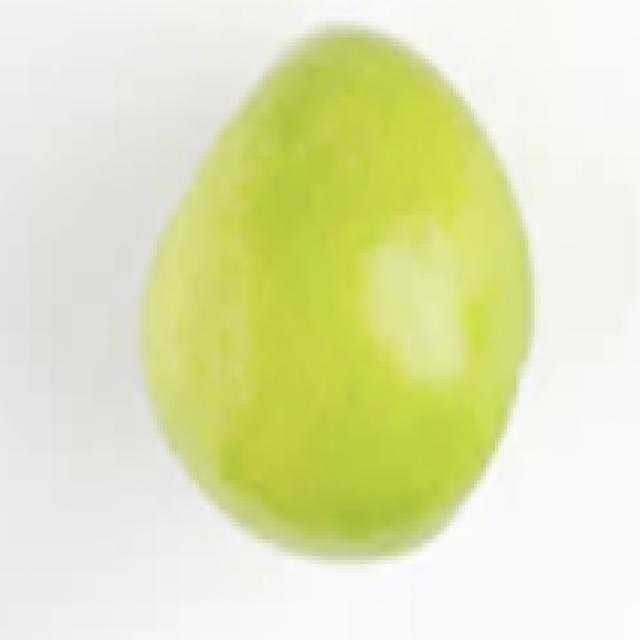Fresh Apple: (147, 53, 543, 540)
